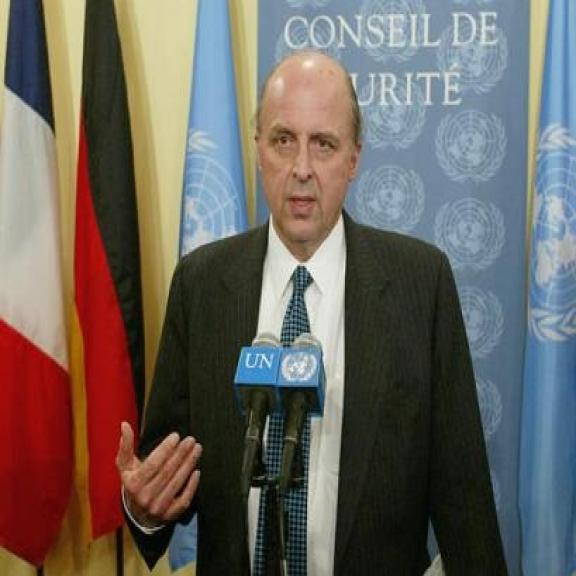face: (251, 81, 366, 251)
